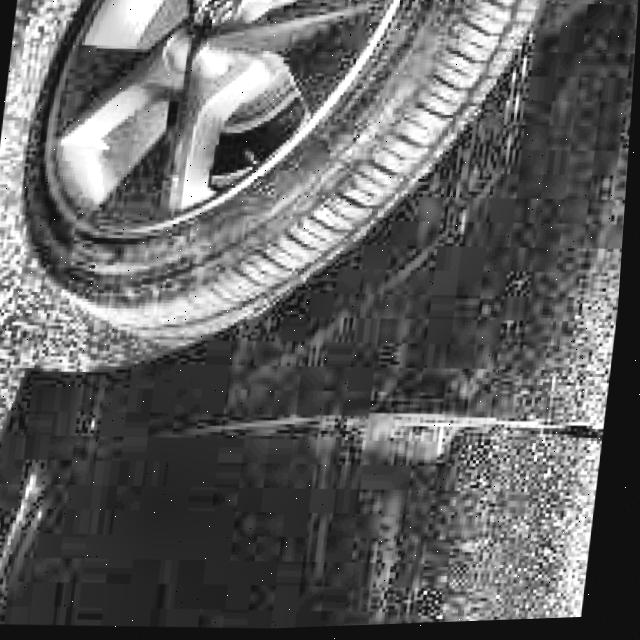door_scratch: (435, 41, 561, 236), (322, 378, 485, 525)
